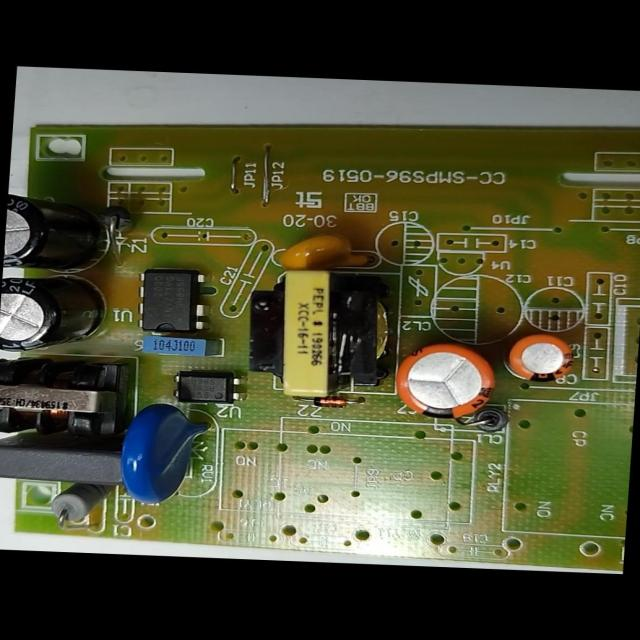Cap1: (390, 339, 500, 421)
Cap2: (504, 330, 577, 384)
Cap3: (0, 272, 110, 358)
Cap4: (3, 191, 113, 276)
MOSFET: (133, 267, 206, 336)
Mov: (115, 401, 214, 506)
Resistor: (48, 484, 110, 525)
Transformer: (245, 268, 401, 396), (0, 354, 129, 444)
